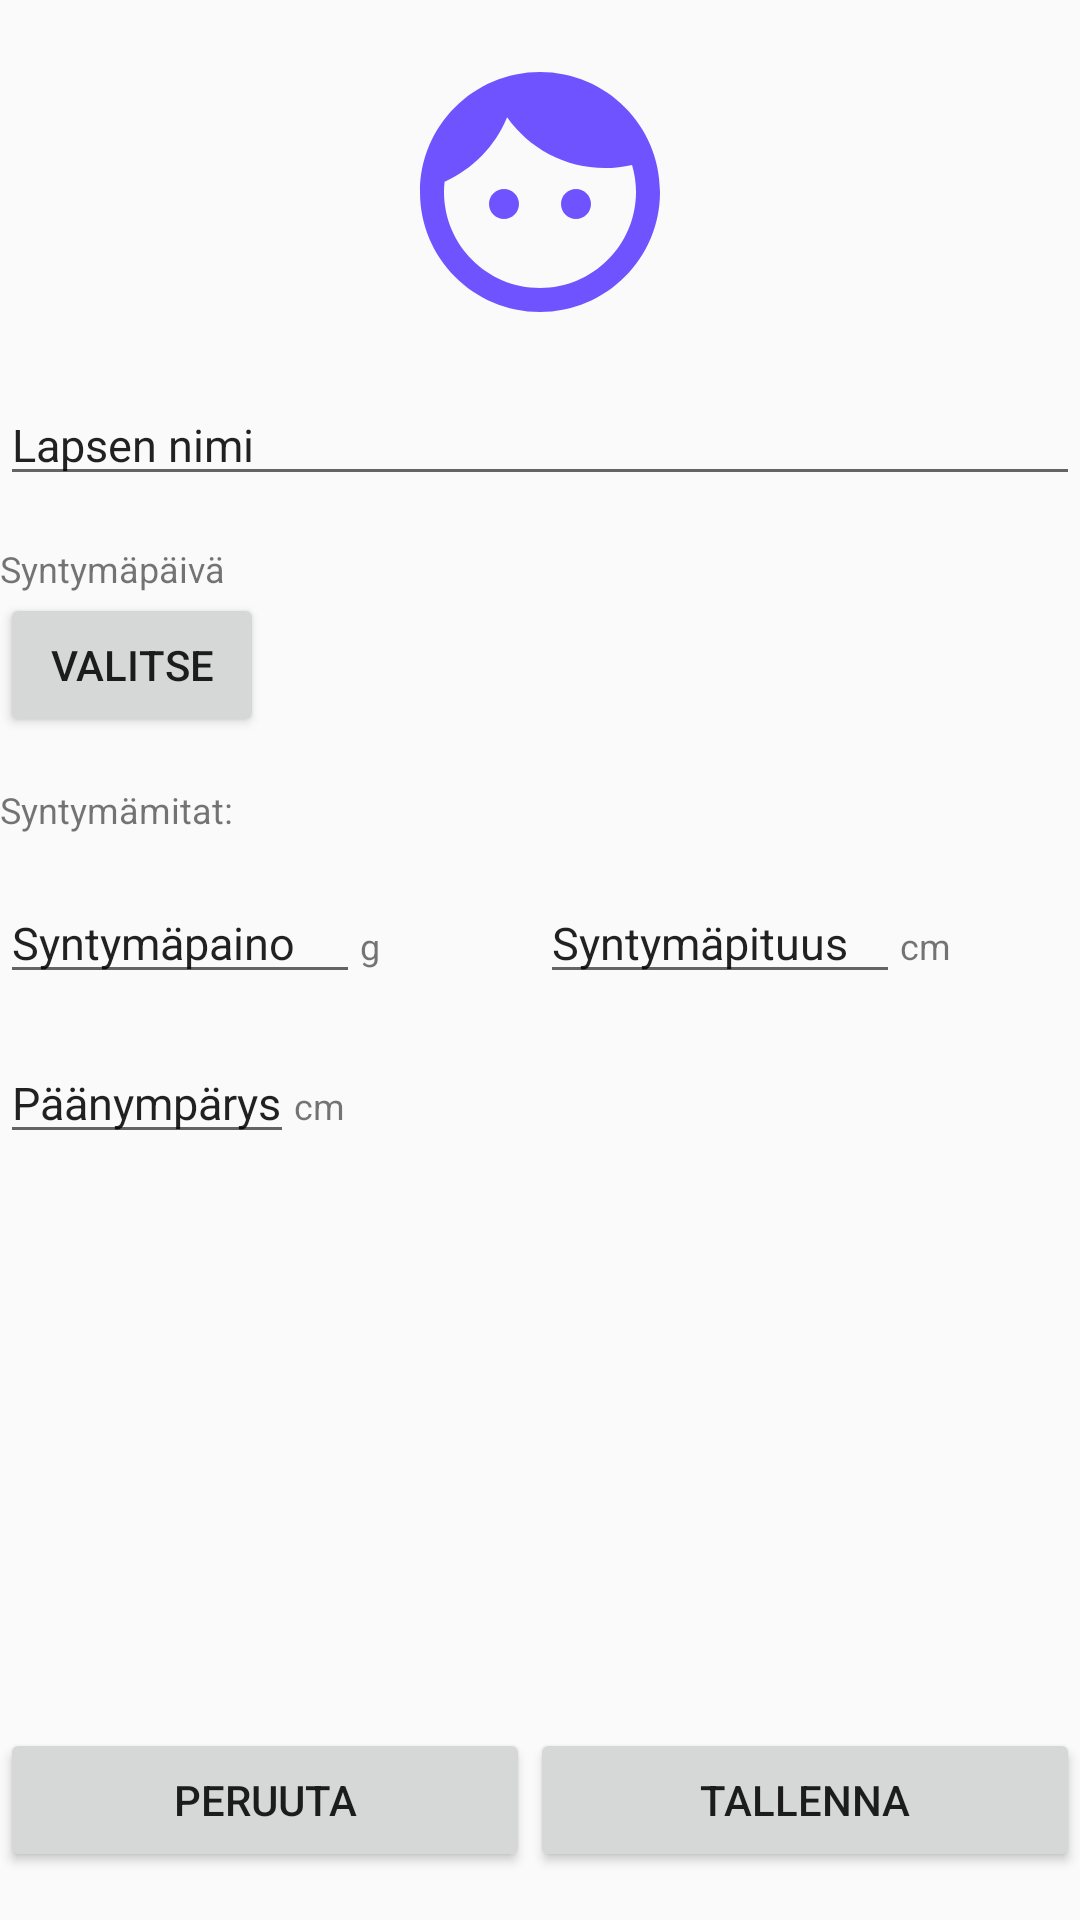

Named icons in this screenshot (1080x1920) and their bounding boxes, (x1, y1, x2, y2):
face: (420, 72, 660, 312)
